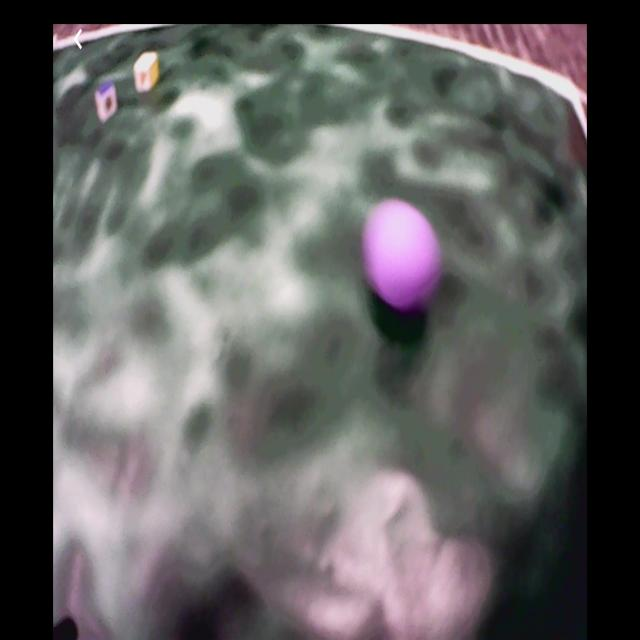ball: (365, 200, 445, 309)
